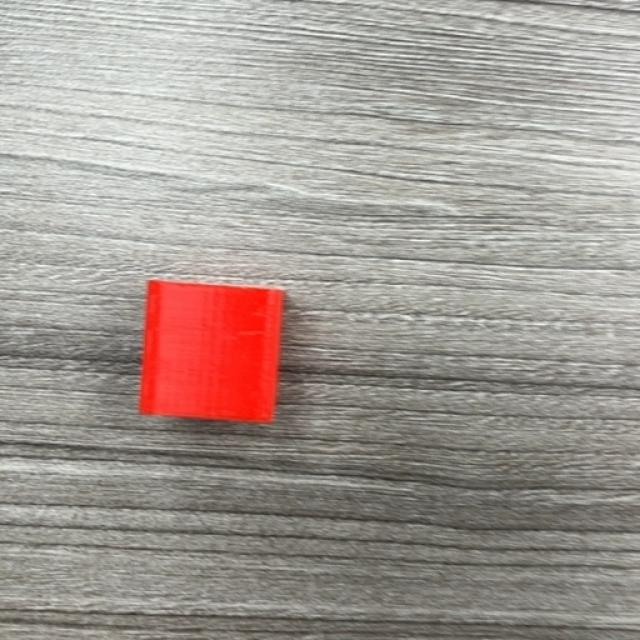Rojo: (138, 280, 288, 426)
